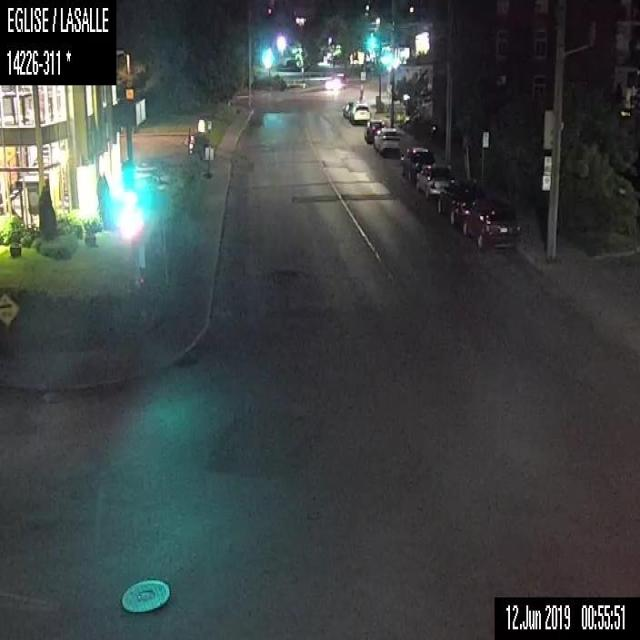vehicle: (462, 197, 522, 252), (438, 177, 482, 225), (400, 144, 432, 182), (415, 163, 451, 195), (372, 126, 400, 156), (364, 119, 384, 142), (351, 103, 370, 124), (325, 70, 346, 88), (341, 99, 354, 118)
